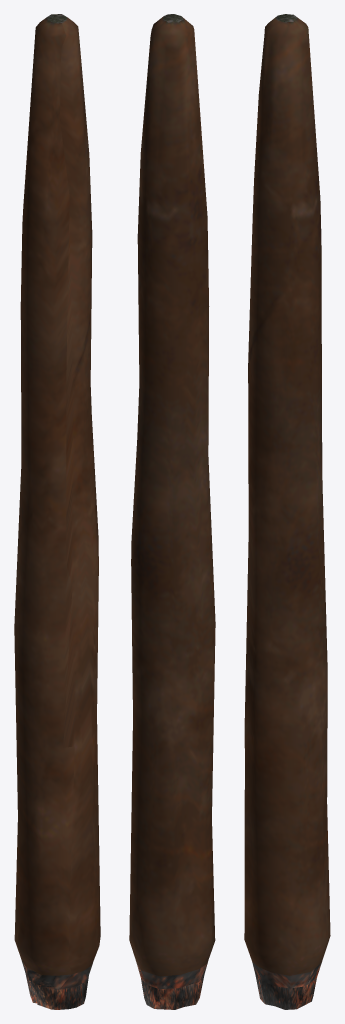
The model's file is CigarilloLit.fbx.
3 renders of one model, left to right at view 1: azimuth 30°, elevation 25°; view 2: azimuth 210°, elevation 25°; view 3: azimuth 270°, elevation 25°, orthographic.
Parts seen in each view (by area): view 1: Cylinder.001; view 2: Cylinder.001; view 3: Cylinder.001.
Part boxes in pixels (<box>): Cylinder.001: <box>14,14,100,1009</box>; Cylinder.001: <box>129,14,215,1009</box>; Cylinder.001: <box>244,14,330,1009</box>.
Size of the model in its own units: 0.00814 by 0.1019 by 0.0081.
